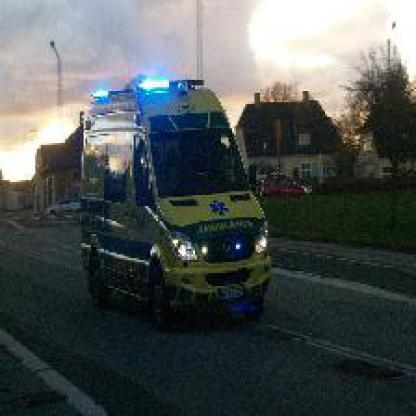emergency: (70, 69, 278, 336)
